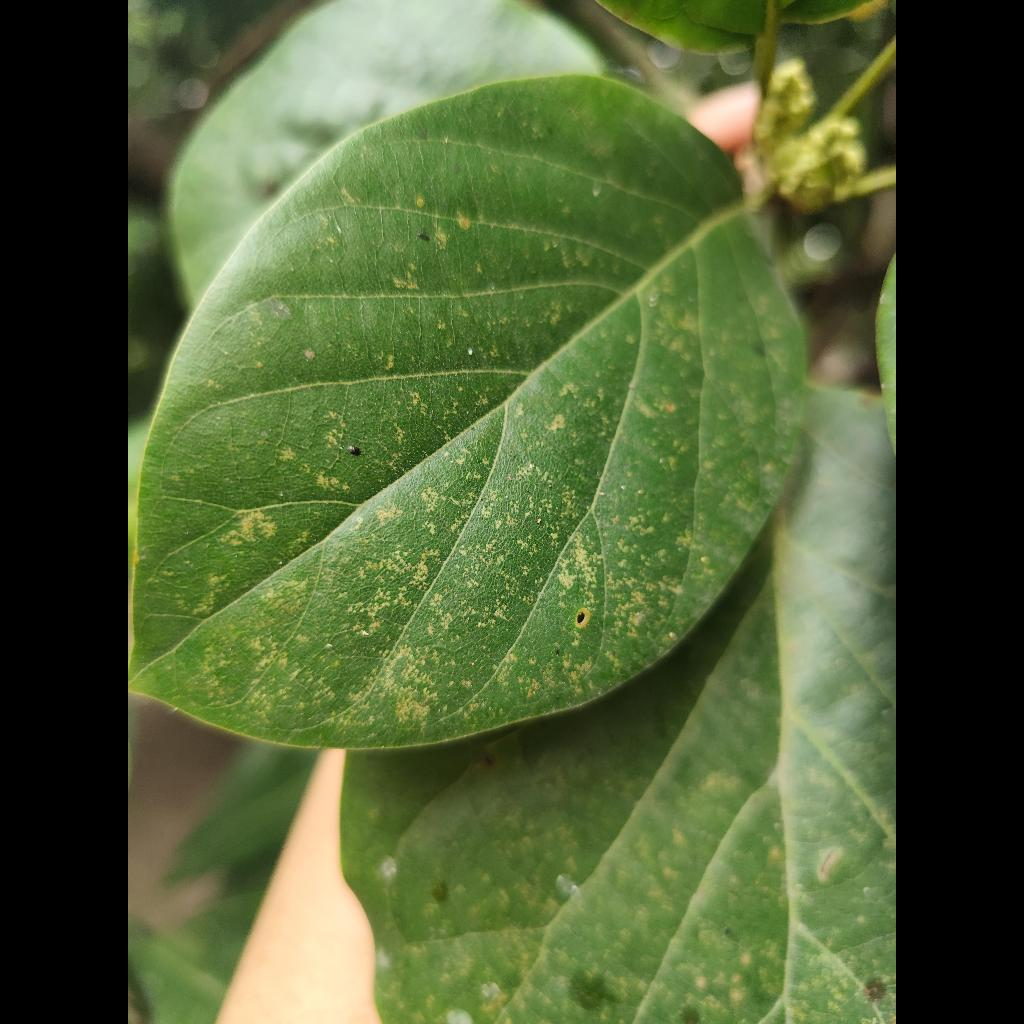antracnosis_hoja: (131, 76, 804, 747)
